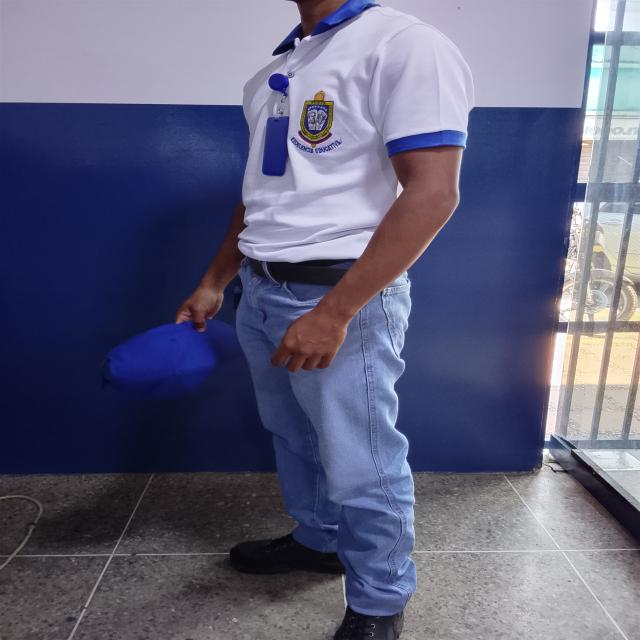carnet: (262, 116, 289, 176)
uniforme_superior: (237, 0, 469, 263)
